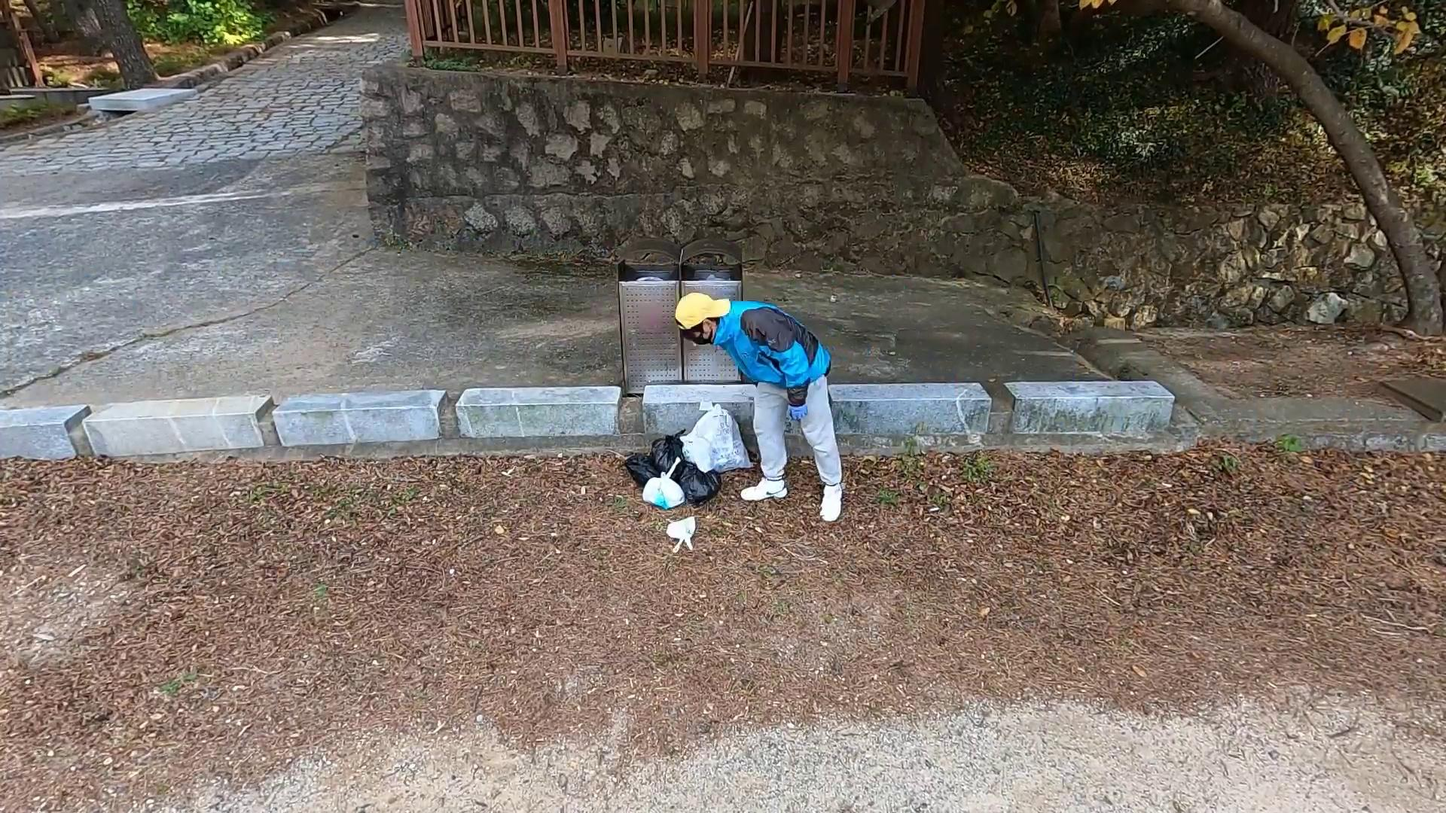person: (673, 283, 852, 527)
trash: (683, 403, 754, 475), (668, 456, 725, 506), (634, 457, 688, 506), (645, 433, 692, 476), (620, 452, 664, 487), (663, 515, 701, 553)
